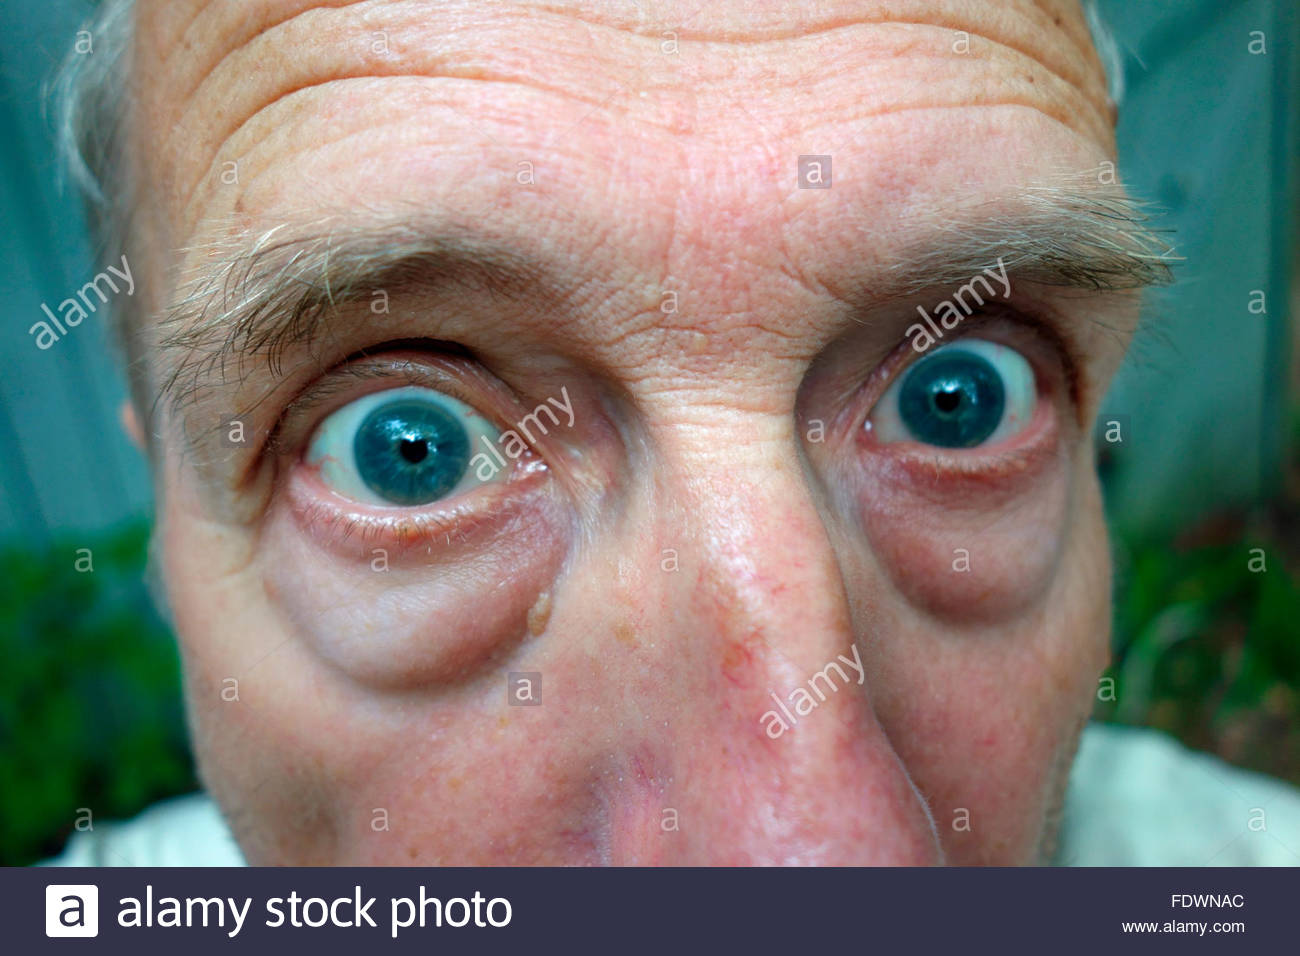PUFFY_EYES: (249, 376, 589, 692), (838, 395, 1091, 618)
